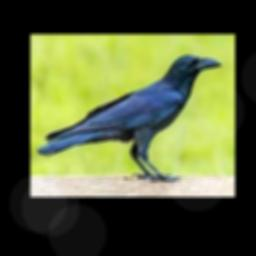Crow: (36, 55, 222, 180)
